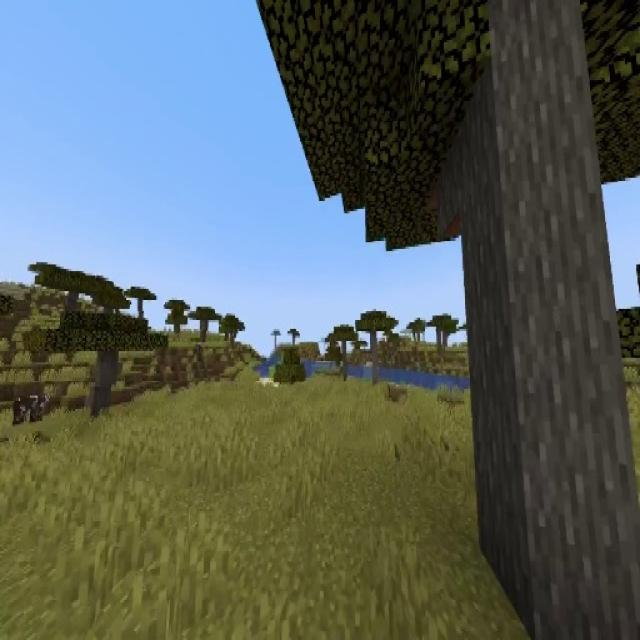acacia: (253, 3, 640, 640), (47, 310, 168, 414), (355, 311, 396, 386)
acacia_log: (465, 0, 640, 640), (87, 356, 117, 416)
